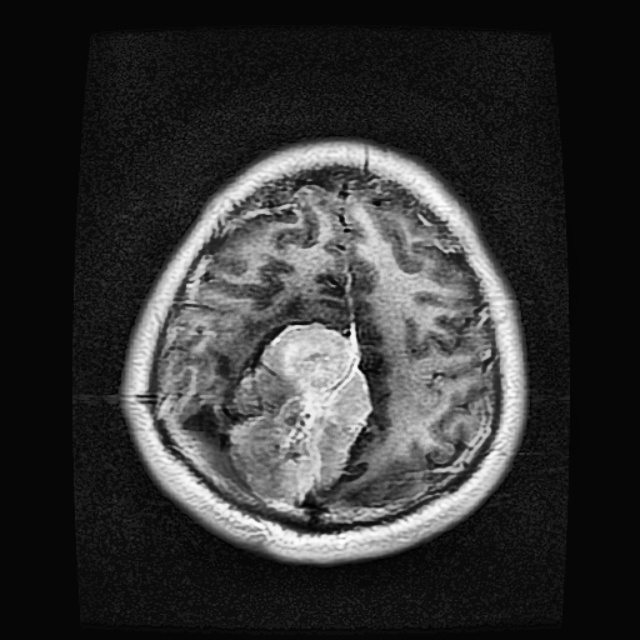Pituitary: (230, 320, 370, 502)
